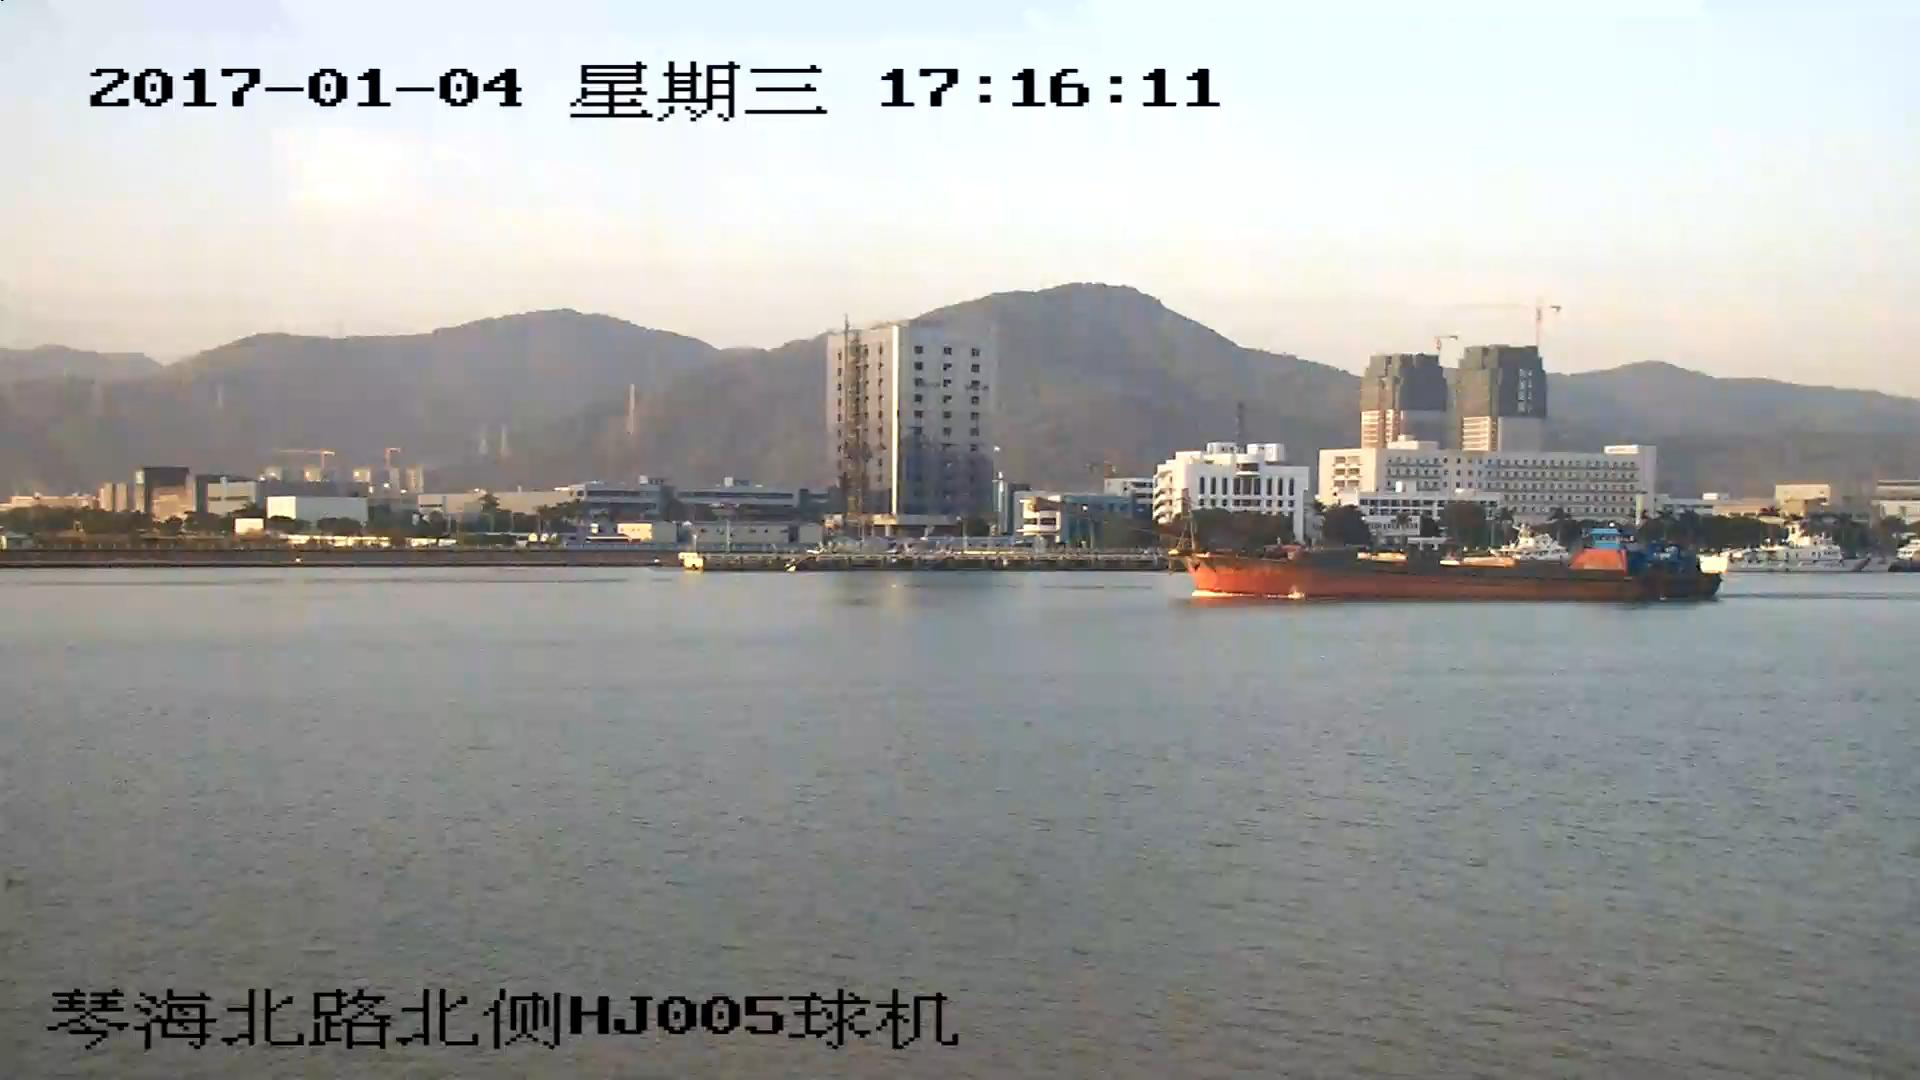bulk cargo carrier: (1032, 498, 1719, 602)
